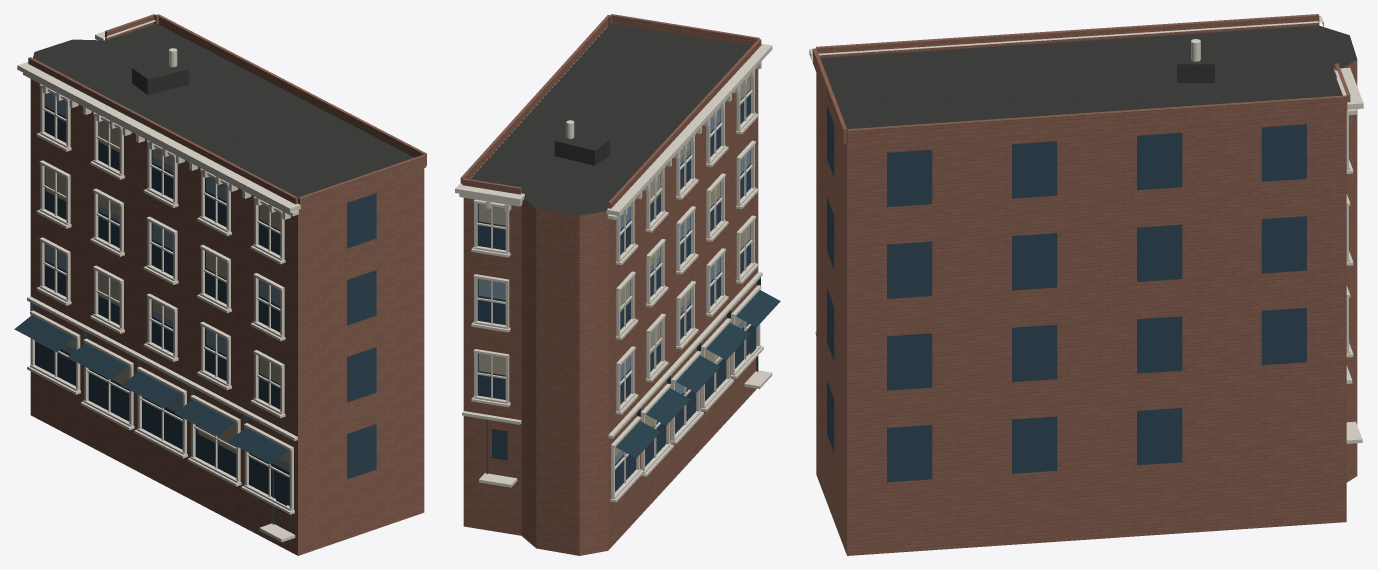
3 views of the same model, side by side, from view 1: azimuth 30°, elevation 25°; view 2: azimuth 150°, elevation 25°; view 3: azimuth 270°, elevation 25° (orthographic). The views are drawn at different scales.
Parts seen in each view (by area): view 1: Footprint 0 / surface 2, Cornices and window frames, Footprint 0 / surface 1, Inset glazing, Facade bay volumes, Storefronts and doors, Interior blind variation, Sky reflection panels, Inferred rooftop service enclosure / surface 5, Inferred rooftop service enclosure / surface 3; view 2: Footprint 0 / surface 2, Cornices and window frames, Footprint 0 / surface 1, Inset glazing, Facade bay volumes, Storefronts and doors, Interior blind variation, Sky reflection panels, Inferred rooftop service enclosure / surface 6, Inferred rooftop service enclosure / surface 3; view 3: Footprint 0 / surface 2, Inset glazing, Footprint 0 / surface 1, Facade bay volumes, Cornices and window frames, Inferred rooftop service enclosure / surface 3, Inferred rooftop service enclosure / surface 1.
Boxes of the visible parts, x1=… form: Footprint 0 / surface 2: x1=30, y1=79, x2=424, y2=555; Cornices and window frames: x1=17, y1=20, x2=300, y2=542; Footprint 0 / surface 1: x1=33, y1=23, x2=414, y2=197; Inset glazing: x1=35, y1=94, x2=376, y2=514; Facade bay volumes: x1=28, y1=14, x2=426, y2=210; Storefronts and doors: x1=14, y1=302, x2=288, y2=524; Interior blind variation: x1=45, y1=120, x2=289, y2=463; Sky reflection panels: x1=45, y1=92, x2=289, y2=472; Inferred rooftop service enclosure / surface 5: x1=147, y1=69, x2=188, y2=94; Inferred rooftop service enclosure / surface 3: x1=132, y1=59, x2=188, y2=79; Footprint 0 / surface 2: x1=463, y1=68, x2=758, y2=555; Cornices and window frames: x1=455, y1=43, x2=772, y2=502; Footprint 0 / surface 1: x1=470, y1=23, x2=751, y2=215; Inset glazing: x1=477, y1=77, x2=756, y2=491; Facade bay volumes: x1=460, y1=14, x2=761, y2=208; Storefronts and doors: x1=486, y1=277, x2=780, y2=474; Interior blind variation: x1=479, y1=77, x2=750, y2=456; Sky reflection panels: x1=478, y1=109, x2=750, y2=463; Inferred rooftop service enclosure / surface 6: x1=554, y1=141, x2=594, y2=165; Inferred rooftop service enclosure / surface 3: x1=555, y1=130, x2=609, y2=150; Footprint 0 / surface 2: x1=816, y1=59, x2=1357, y2=555; Inset glazing: x1=827, y1=105, x2=1306, y2=482; Footprint 0 / surface 1: x1=820, y1=25, x2=1356, y2=129; Facade bay volumes: x1=812, y1=14, x2=1350, y2=144; Cornices and window frames: x1=809, y1=15, x2=1363, y2=443; Inferred rooftop service enclosure / surface 3: x1=1177, y1=40, x2=1214, y2=64; Inferred rooftop service enclosure / surface 1: x1=1177, y1=64, x2=1214, y2=82.
Size of the model in its own units: 9.62 by 15.85 by 17.55.
